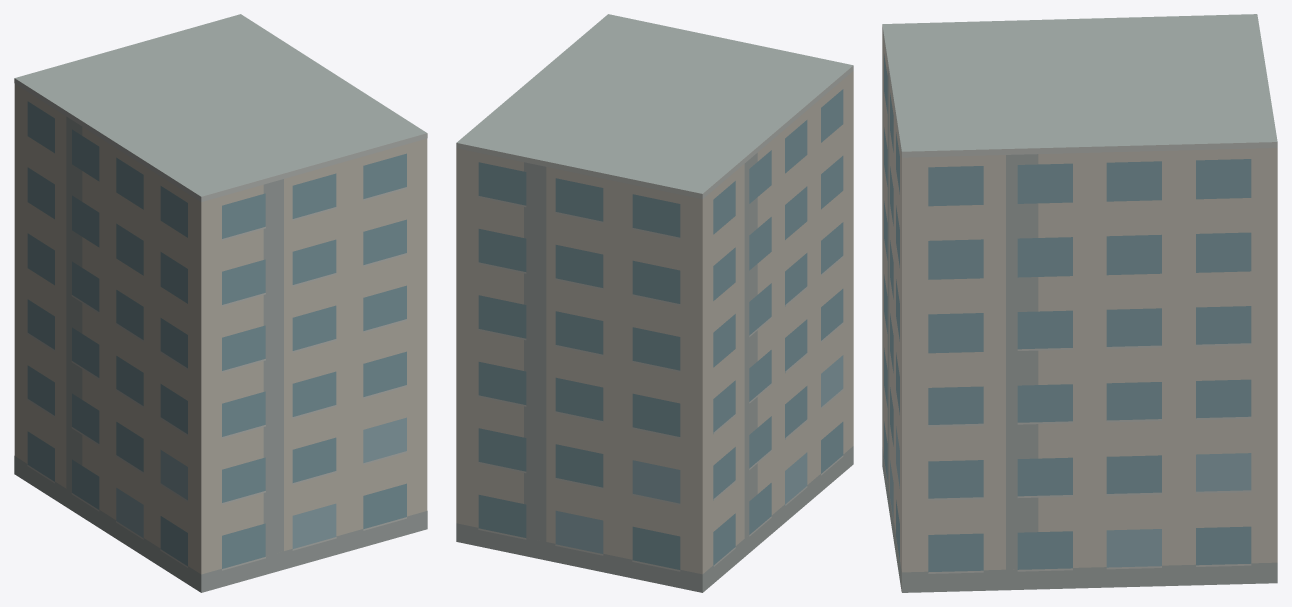
Rendered from survey-upis-32457435.glb.
3 renders of one model, left to right at view 1: azimuth 30°, elevation 25°; view 2: azimuth 150°, elevation 25°; view 3: azimuth 270°, elevation 25°, orthographic. The views are drawn at different scales.
Parts seen in each view (by area): view 1: survey-upis-32457435.tmp; view 2: survey-upis-32457435.tmp; view 3: survey-upis-32457435.tmp.
Boxes of the visible parts, left/top/right/bottom form: survey-upis-32457435.tmp: left=14, top=14, right=427, bottom=592; survey-upis-32457435.tmp: left=456, top=14, right=853, bottom=592; survey-upis-32457435.tmp: left=882, top=14, right=1277, bottom=592.
Bounding box in the file's own units: 12.13 × 18.1 × 14.71.
